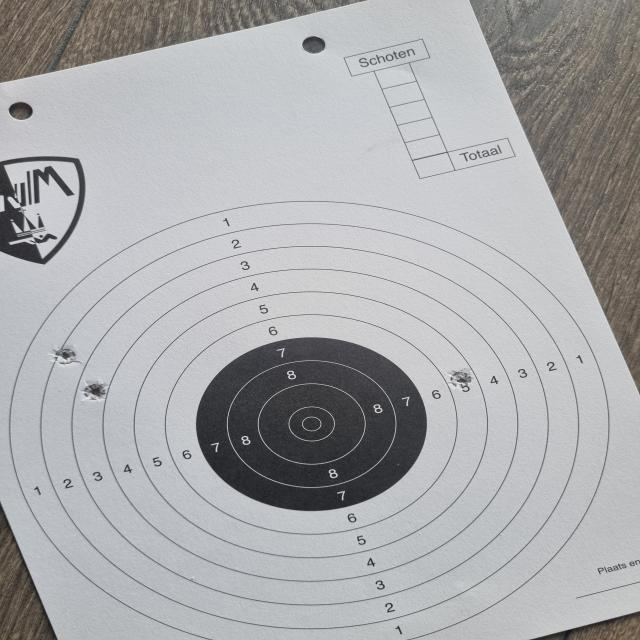2: (52, 347, 82, 367)
3: (80, 382, 109, 402)
6: (443, 370, 472, 387)
Target: (6, 201, 611, 640)
black_contour: (198, 339, 427, 510)
